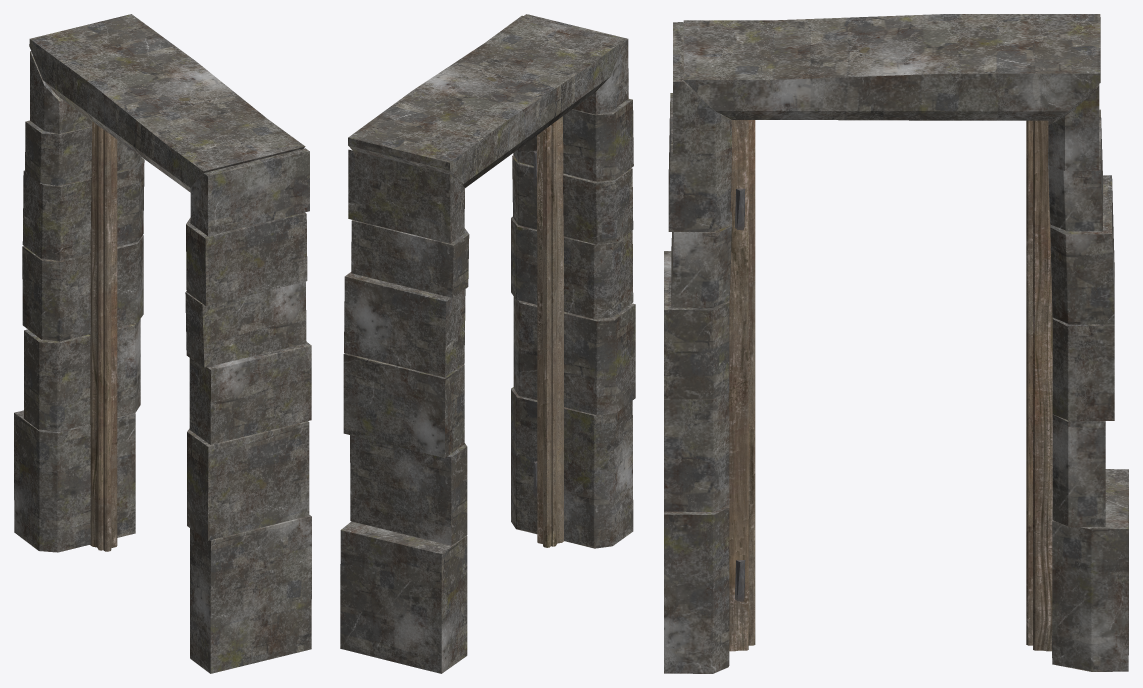
The model's file is SM_DoorFrame_B_01.fbx.
The picture shows the model from 3 angles, left to right: view 1: azimuth 30°, elevation 25°; view 2: azimuth 150°, elevation 25°; view 3: azimuth 270°, elevation 25°; orthographic projection. The views are drawn at different scales.
Parts seen in each view (by area): view 1: SM_DoorFrame_B_01_LOD0; view 2: SM_DoorFrame_B_01_LOD0; view 3: SM_DoorFrame_B_01_LOD0.
Part boxes in pixels (x1,y1,x2,y2): SM_DoorFrame_B_01_LOD0: [14, 14, 311, 673]; SM_DoorFrame_B_01_LOD0: [340, 14, 635, 673]; SM_DoorFrame_B_01_LOD0: [664, 14, 1128, 673].
Bounding box in the file's own units: 56.45 × 178 × 253.
